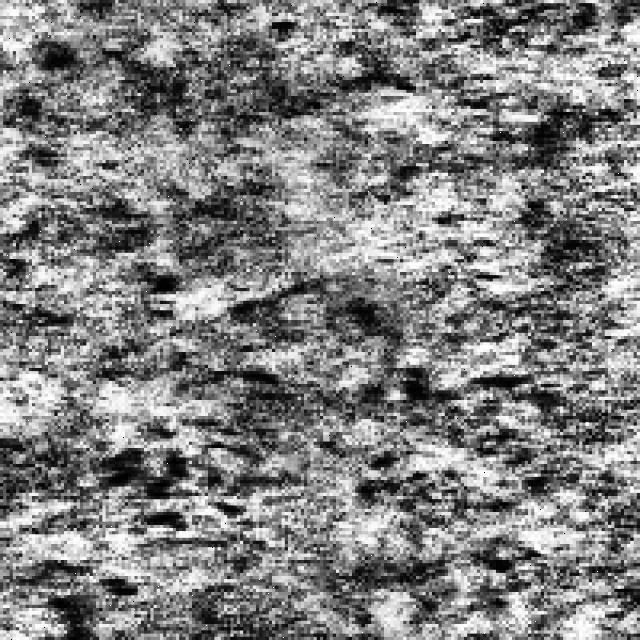Crazing: (45, 380, 256, 612)
